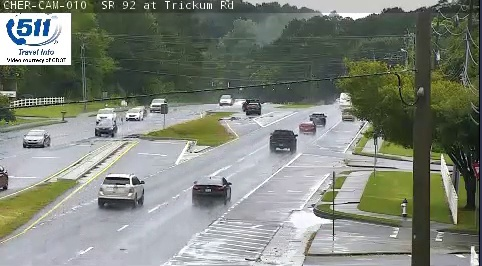car: (99, 173, 144, 202), (193, 177, 231, 202), (269, 130, 296, 151), (309, 112, 326, 127), (299, 121, 316, 134)
